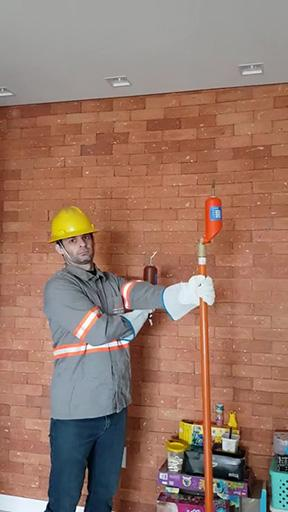Detector_Tensao_Contato: (202, 177, 223, 245), (142, 250, 161, 288)
Vara_Manobra: (196, 241, 215, 512)
